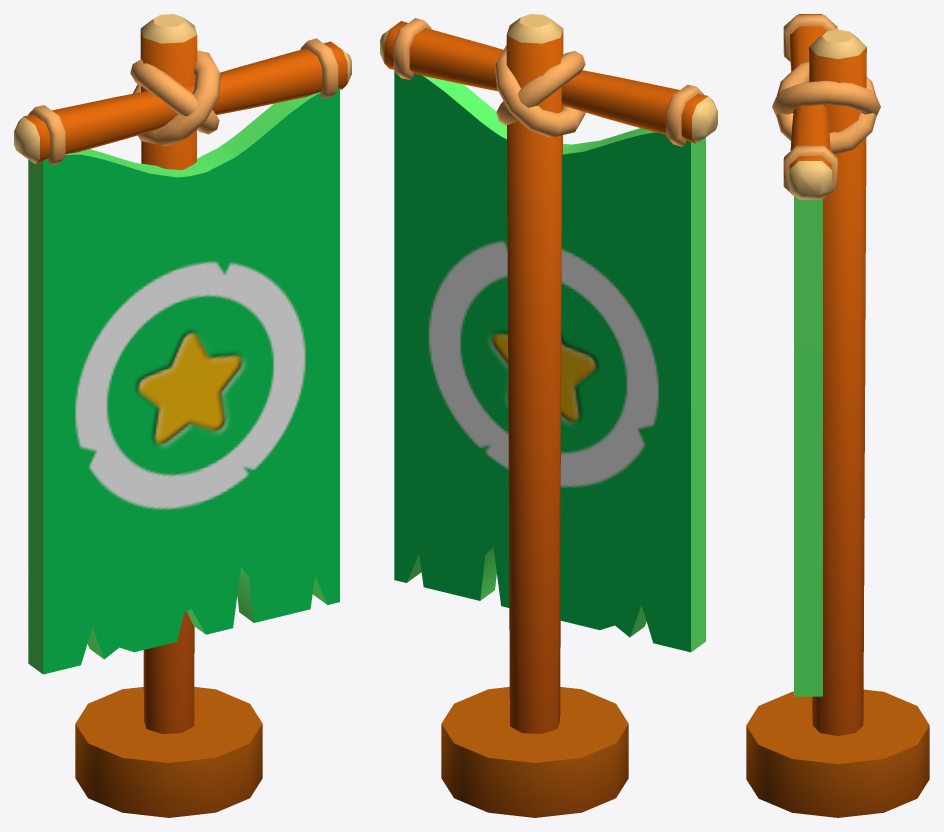
File: Prop_Flag_Player_Base_01.fbx
The picture shows the model from 3 angles, left to right: view 1: azimuth 30°, elevation 25°; view 2: azimuth 150°, elevation 25°; view 3: azimuth 270°, elevation 25°; orthographic projection.
Parts seen in each view (by area): view 1: Prop_Flag_Player_Base_01; view 2: Prop_Flag_Player_Base_01; view 3: Prop_Flag_Player_Base_01.
Part boxes in pixels (left/top/right/bottom): Prop_Flag_Player_Base_01: left=14, top=14, right=351, bottom=817; Prop_Flag_Player_Base_01: left=380, top=14, right=717, bottom=817; Prop_Flag_Player_Base_01: left=746, top=14, right=929, bottom=817.
Size of the model in its own units: 54.82 by 122 by 27.27.
